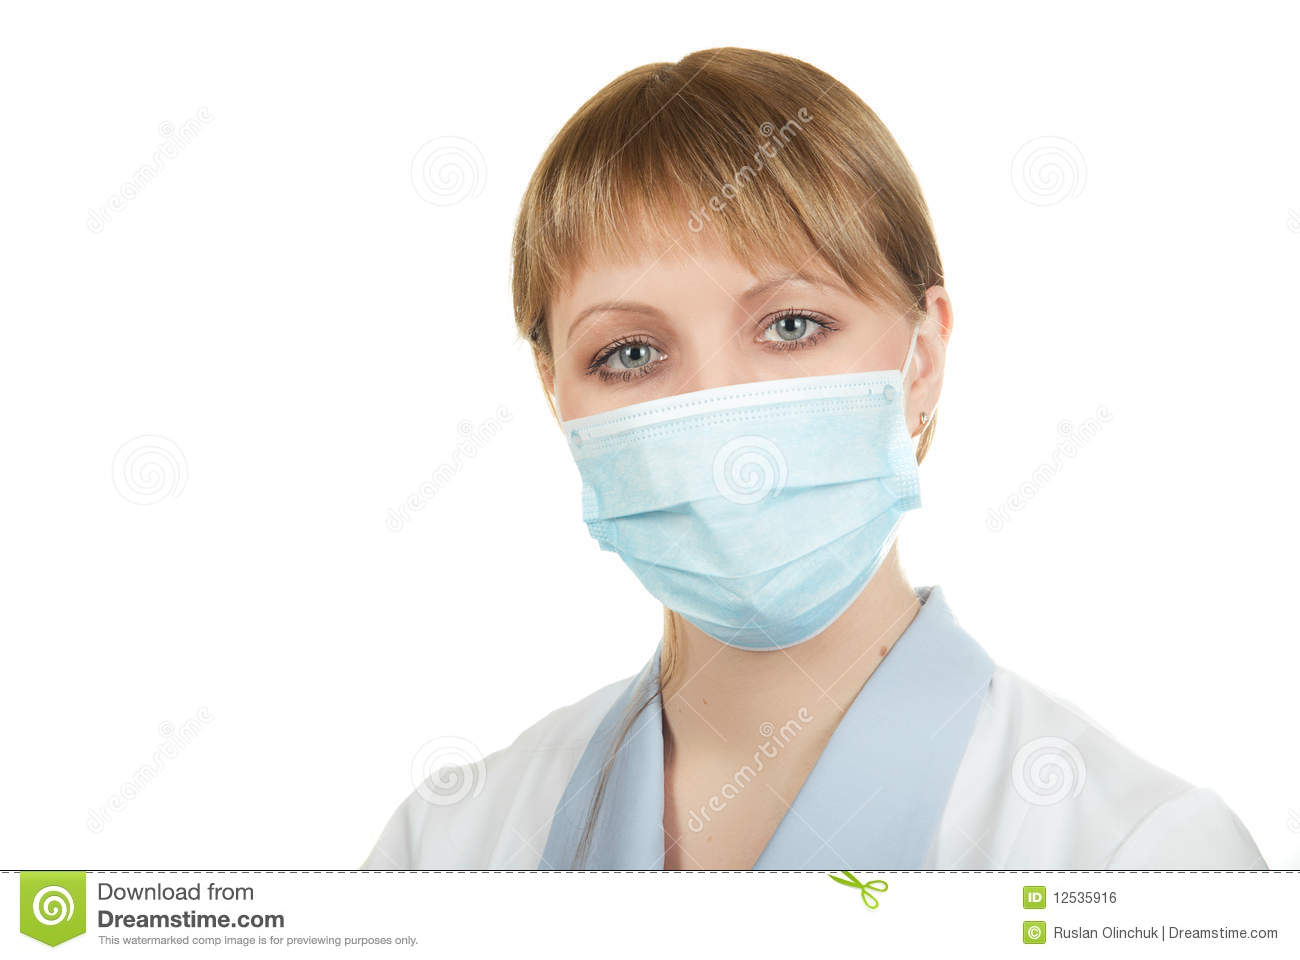mask: (563, 375, 922, 653)
